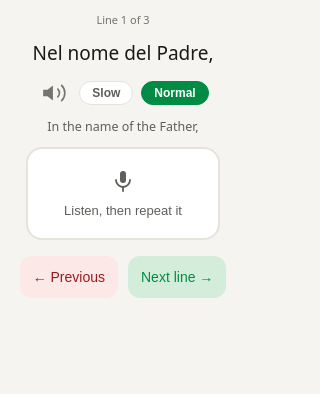
DevotionsTab Shadow mode — the mic can always be used again › listens again on the next line even if the previous turn has not ended
Click the button with aria-label "recording". click: x=123, y=193
box: [26, 146, 220, 240]
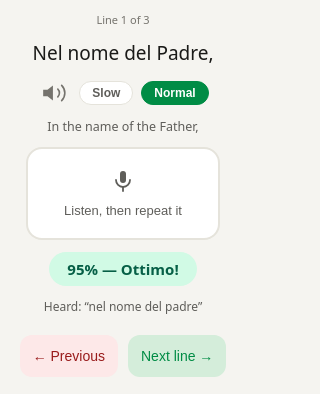
Click the button "Next line →". click: x=177, y=356
box: [128, 334, 226, 376]
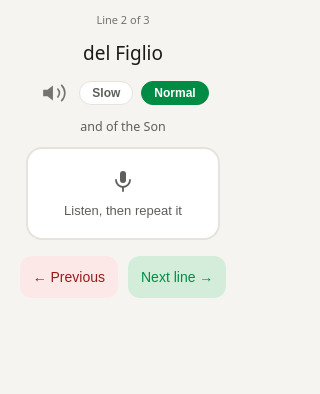
Click the button with aria-label "recording". click: x=123, y=193
box: [26, 146, 220, 240]
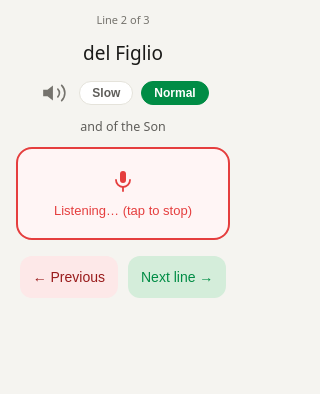
Expected: the button with aria-label "recording" shows "Listening", [16, 146, 230, 240]
